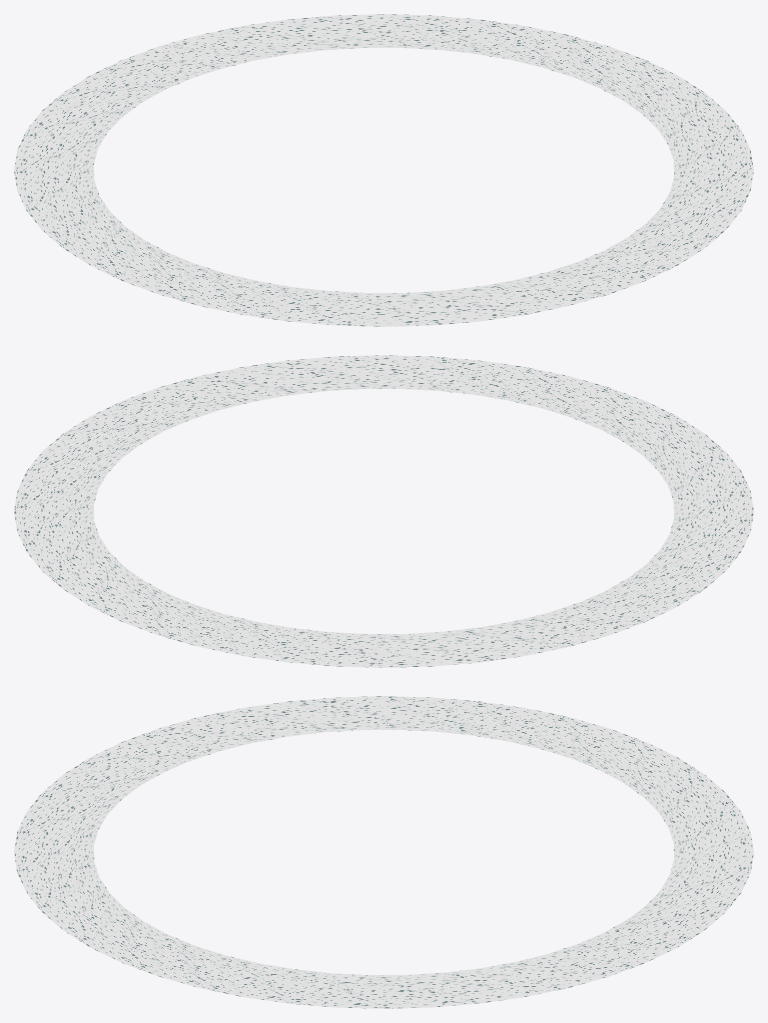
File: RingOIce.fbx
The picture shows the model from 3 angles, top to bottom: view 1: azimuth 30°, elevation 25°; view 2: azimuth 150°, elevation 25°; view 3: azimuth 270°, elevation 25°; orthographic projection.
Visible parts, largest first — view 1: Ring of Debris; view 2: Ring of Debris; view 3: Ring of Debris.
Part boxes in pixels (<box>): Ring of Debris: <box>14,14,753,326</box>; Ring of Debris: <box>14,355,753,667</box>; Ring of Debris: <box>14,696,753,1008</box>.
Bounding box in the file's own units: 14134 × 0.00524 × 14134.
